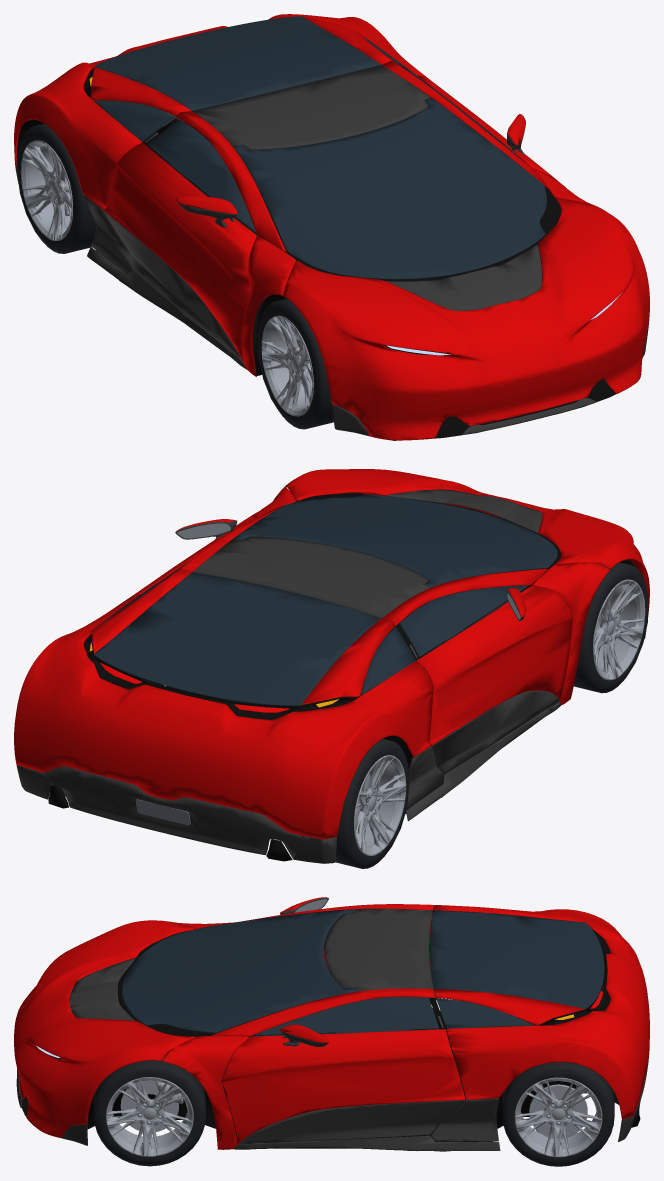
The model's file is sport-coupe.glb.
3 renders of one model, top to bottom at view 1: azimuth 30°, elevation 25°; view 2: azimuth 150°, elevation 25°; view 3: azimuth 270°, elevation 25°, orthographic. The views are drawn at different scales.
Parts seen in each view (by area): view 1: Body, WheelFrontR, WheelRearR; view 2: Body, WheelRearR, WheelFrontR; view 3: Body, WheelFrontL, WheelRearL.
Boxes of the visible parts, x1,y1,x2,y2 form: Body: (14, 14, 649, 440); WheelFrontR: (257, 298, 333, 429); WheelRearR: (17, 123, 95, 253); Body: (14, 469, 649, 863); WheelRearR: (335, 738, 409, 868); WheelFrontR: (574, 562, 648, 693); Body: (14, 897, 649, 1151); WheelFrontL: (94, 1059, 205, 1166); WheelRearL: (502, 1062, 614, 1166).
Bounding box in the file's own units: 2.34 × 1.15 × 4.36.
